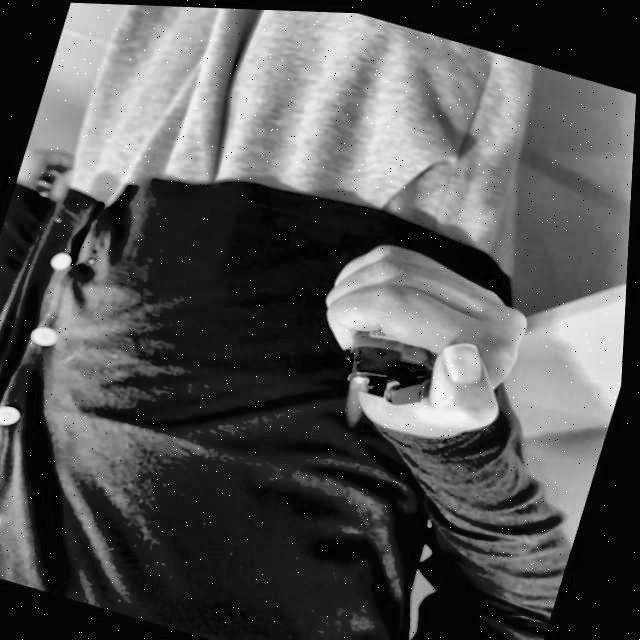Fire: (340, 377, 373, 431)
